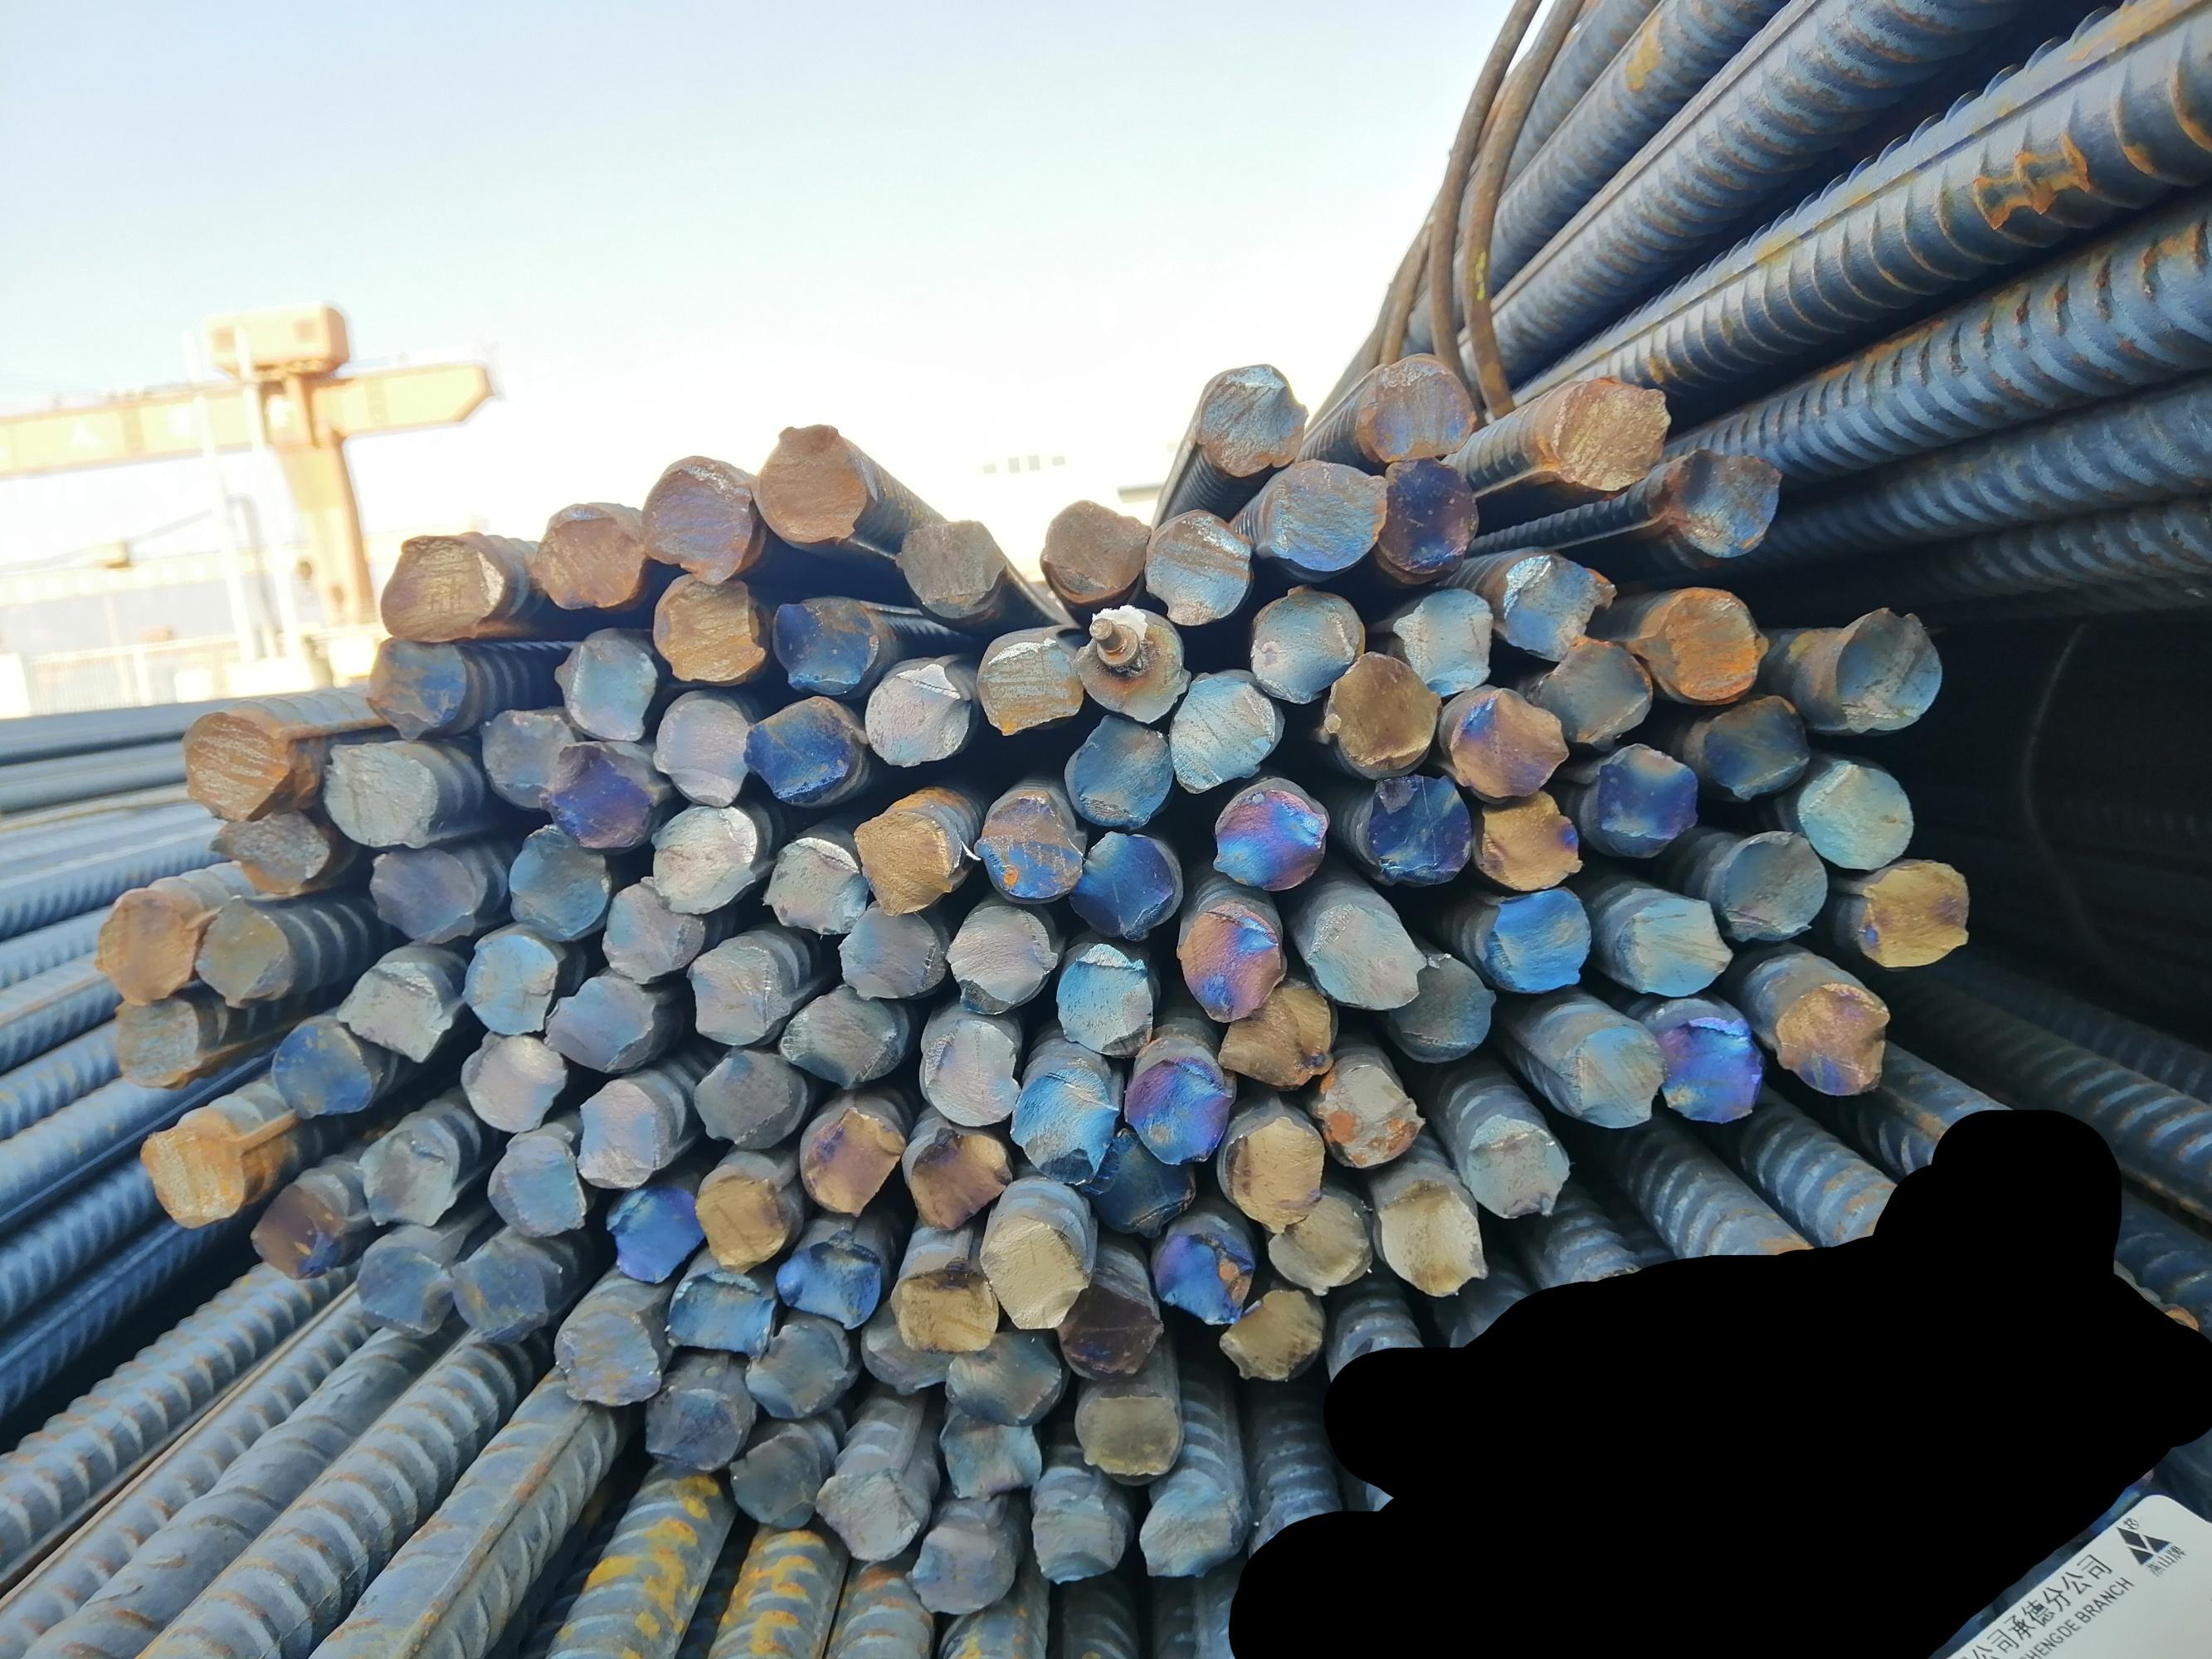bar: (1626, 581, 1771, 707), (1256, 454, 1389, 584), (635, 452, 757, 589), (1162, 665, 1285, 796), (1322, 648, 1442, 781), (1121, 1029, 1239, 1164), (1528, 629, 1655, 752), (1446, 681, 1575, 803), (1371, 450, 1484, 588), (1830, 604, 1946, 737), (1072, 601, 1194, 727), (1768, 979, 1897, 1099), (1550, 370, 1673, 495), (1352, 768, 1476, 891), (377, 528, 507, 645), (1172, 897, 1289, 1026), (1577, 739, 1701, 861), (1352, 347, 1480, 464), (1247, 582, 1367, 707), (774, 980, 908, 1092), (753, 421, 870, 548), (1491, 549, 1621, 664), (1212, 972, 1334, 1093), (1189, 359, 1312, 479), (1209, 773, 1330, 893), (1371, 1180, 1492, 1301), (1005, 1062, 1121, 1186), (741, 693, 866, 808), (1059, 712, 1177, 833), (1302, 900, 1429, 1012), (1794, 757, 1916, 873), (1138, 507, 1254, 630), (1385, 947, 1501, 1068), (535, 737, 657, 852), (317, 739, 441, 853), (650, 570, 768, 688), (941, 900, 1059, 1018), (1473, 884, 1596, 997), (1713, 827, 1831, 944), (177, 708, 295, 824), (1065, 827, 1185, 942), (1664, 445, 1785, 560), (1851, 857, 1974, 969), (1306, 1060, 1428, 1172), (1068, 1370, 1184, 1486), (1084, 1125, 1199, 1243), (1220, 1112, 1329, 1235), (1654, 1011, 1768, 1130), (550, 625, 662, 744), (972, 791, 1092, 902), (85, 888, 198, 1006), (529, 499, 646, 612), (646, 802, 761, 917), (940, 1325, 1067, 1428), (333, 957, 455, 1065), (1613, 892, 1735, 1000), (795, 1104, 908, 1220), (976, 1219, 1093, 1331), (186, 893, 297, 1011), (504, 823, 614, 941), (1468, 787, 1587, 896), (1555, 1020, 1672, 1131), (1148, 1208, 1257, 1326), (688, 1044, 809, 1150), (1036, 495, 1150, 608), (1696, 692, 1812, 802), (1459, 1108, 1571, 1221), (1388, 585, 1499, 698), (680, 941, 797, 1048), (538, 972, 660, 1075), (899, 1124, 1015, 1233), (1265, 1185, 1374, 1299), (860, 661, 975, 769), (454, 1028, 571, 1134), (914, 1013, 1021, 1130), (1052, 939, 1157, 1058), (134, 1121, 246, 1230), (1055, 1278, 1171, 1385), (891, 515, 1007, 621), (740, 1317, 858, 1422), (849, 808, 958, 919), (597, 876, 707, 986), (647, 695, 753, 809), (768, 594, 884, 698), (266, 1013, 376, 1121), (758, 833, 872, 937), (834, 900, 948, 1004), (202, 804, 332, 895), (484, 1129, 589, 1240), (689, 1165, 794, 1276), (548, 1306, 663, 1407), (1135, 1482, 1250, 1583), (363, 635, 470, 742), (976, 634, 1085, 738), (901, 1520, 1019, 1617), (364, 845, 479, 945), (474, 705, 579, 812), (663, 1266, 779, 1363), (457, 929, 561, 1038), (770, 1234, 885, 1331), (356, 1122, 460, 1229), (1215, 1287, 1326, 1386), (811, 1465, 924, 1563), (446, 1241, 550, 1345), (936, 1406, 1045, 1505), (603, 1184, 707, 1287), (723, 1428, 827, 1530), (570, 1075, 659, 1193), (857, 1299, 961, 1399), (246, 1180, 348, 1281), (887, 1266, 1001, 1353), (638, 1384, 747, 1476), (353, 1241, 454, 1340), (1028, 1492, 1133, 1586), (106, 995, 201, 1090)
